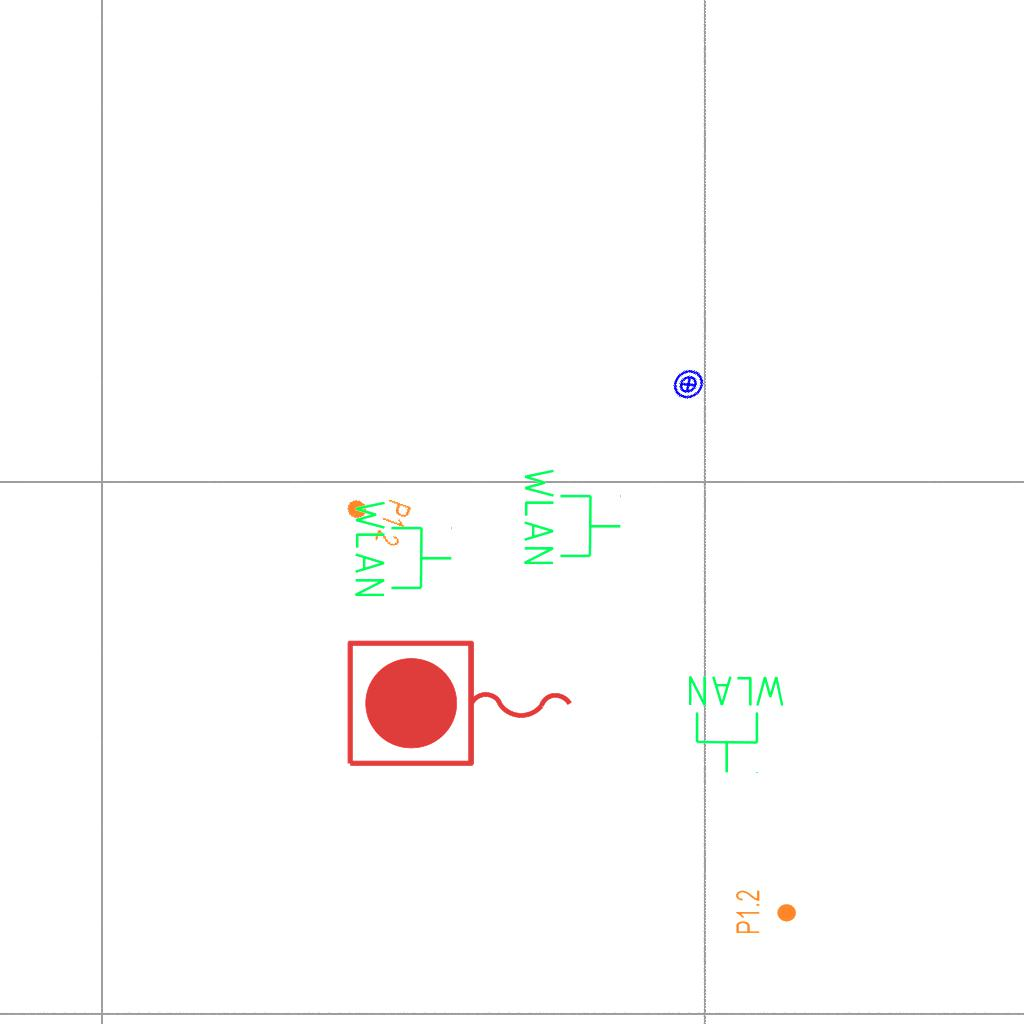Downlight_LED_Einbauleuchten_Flur: (338, 484, 414, 550), (734, 889, 798, 935)
Taster_beleuchtet: (665, 361, 712, 408)
WLAN: (684, 672, 789, 776), (520, 464, 624, 569), (351, 496, 455, 601)
Zugtaster: (339, 633, 583, 777)
